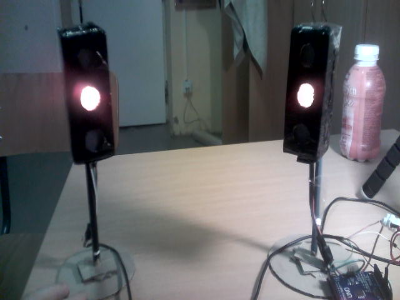trafficlight_red: (67, 32, 110, 156), (287, 28, 328, 157)
